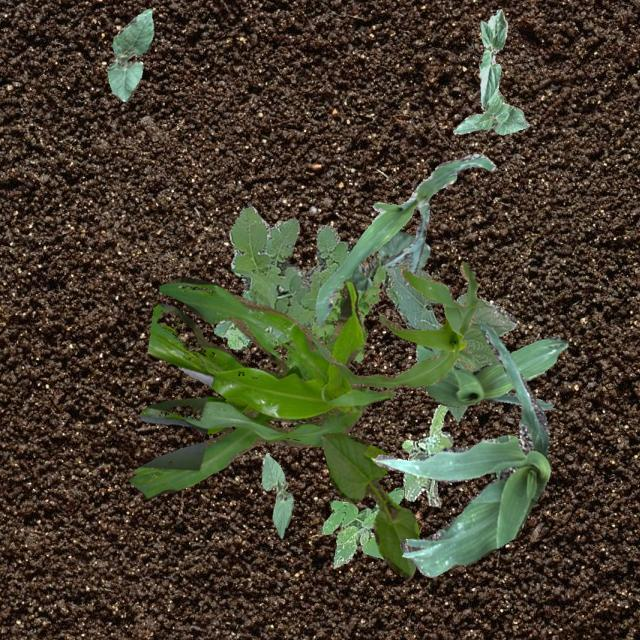crop: (128, 276, 394, 498), (372, 318, 550, 576), (314, 152, 494, 326), (376, 262, 516, 421), (304, 260, 476, 388), (320, 431, 418, 576), (416, 336, 566, 410), (344, 230, 428, 290), (106, 8, 152, 100), (452, 88, 528, 134), (478, 8, 507, 110), (260, 452, 292, 538)
weed: (212, 202, 352, 348), (272, 258, 380, 374), (320, 486, 402, 566), (402, 404, 452, 506)
